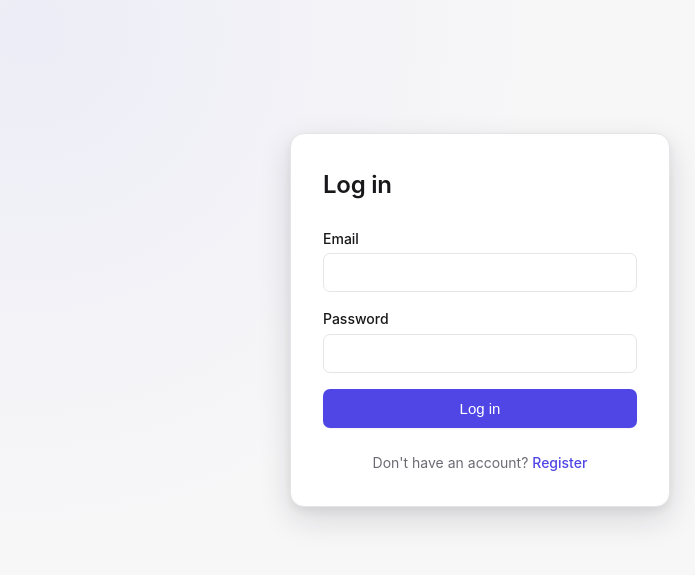
Scenario: LoginPage › shows the real API error message when login fails
Type "alice@example.com" into the field labelled "Email" at (480, 273), box [323, 253, 637, 292]
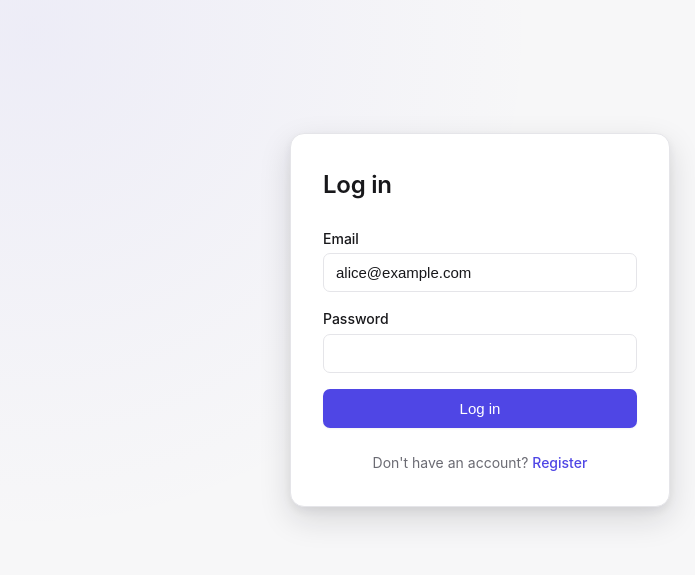
Type "wrongpassword" into the password field labelled "Password" at (480, 353), box [323, 334, 637, 373]
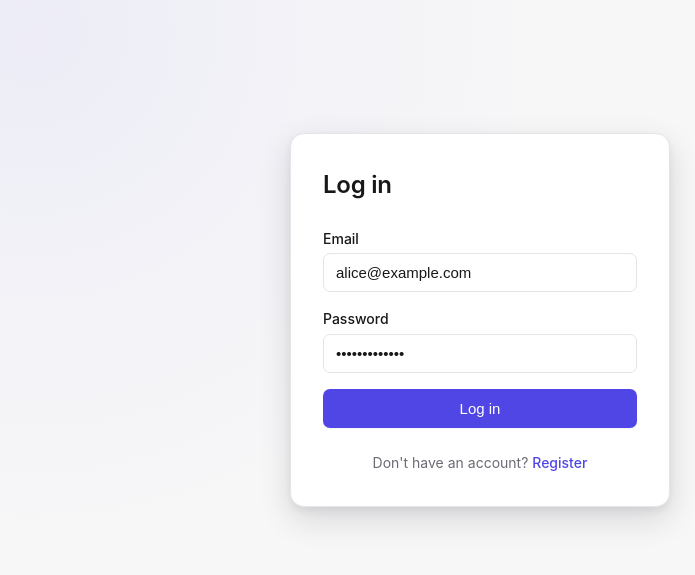
Click the button "Log in" at (480, 408), box [323, 389, 637, 428]
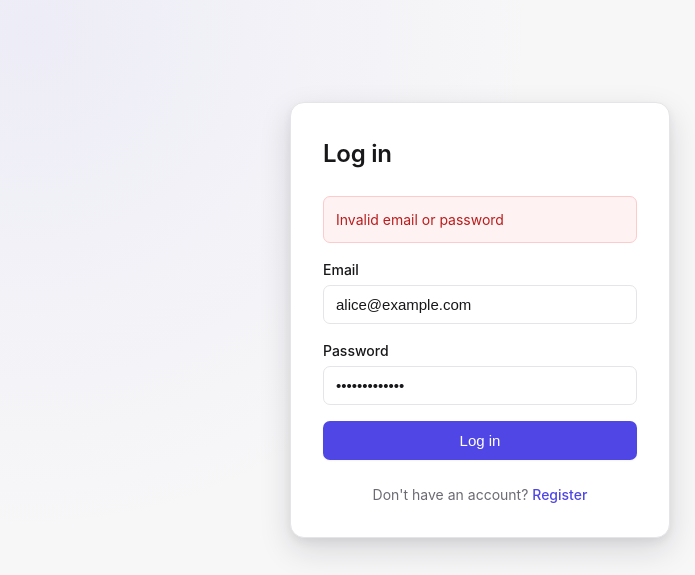
Now the message reads "Invalid email or password", box [336, 211, 504, 228]
